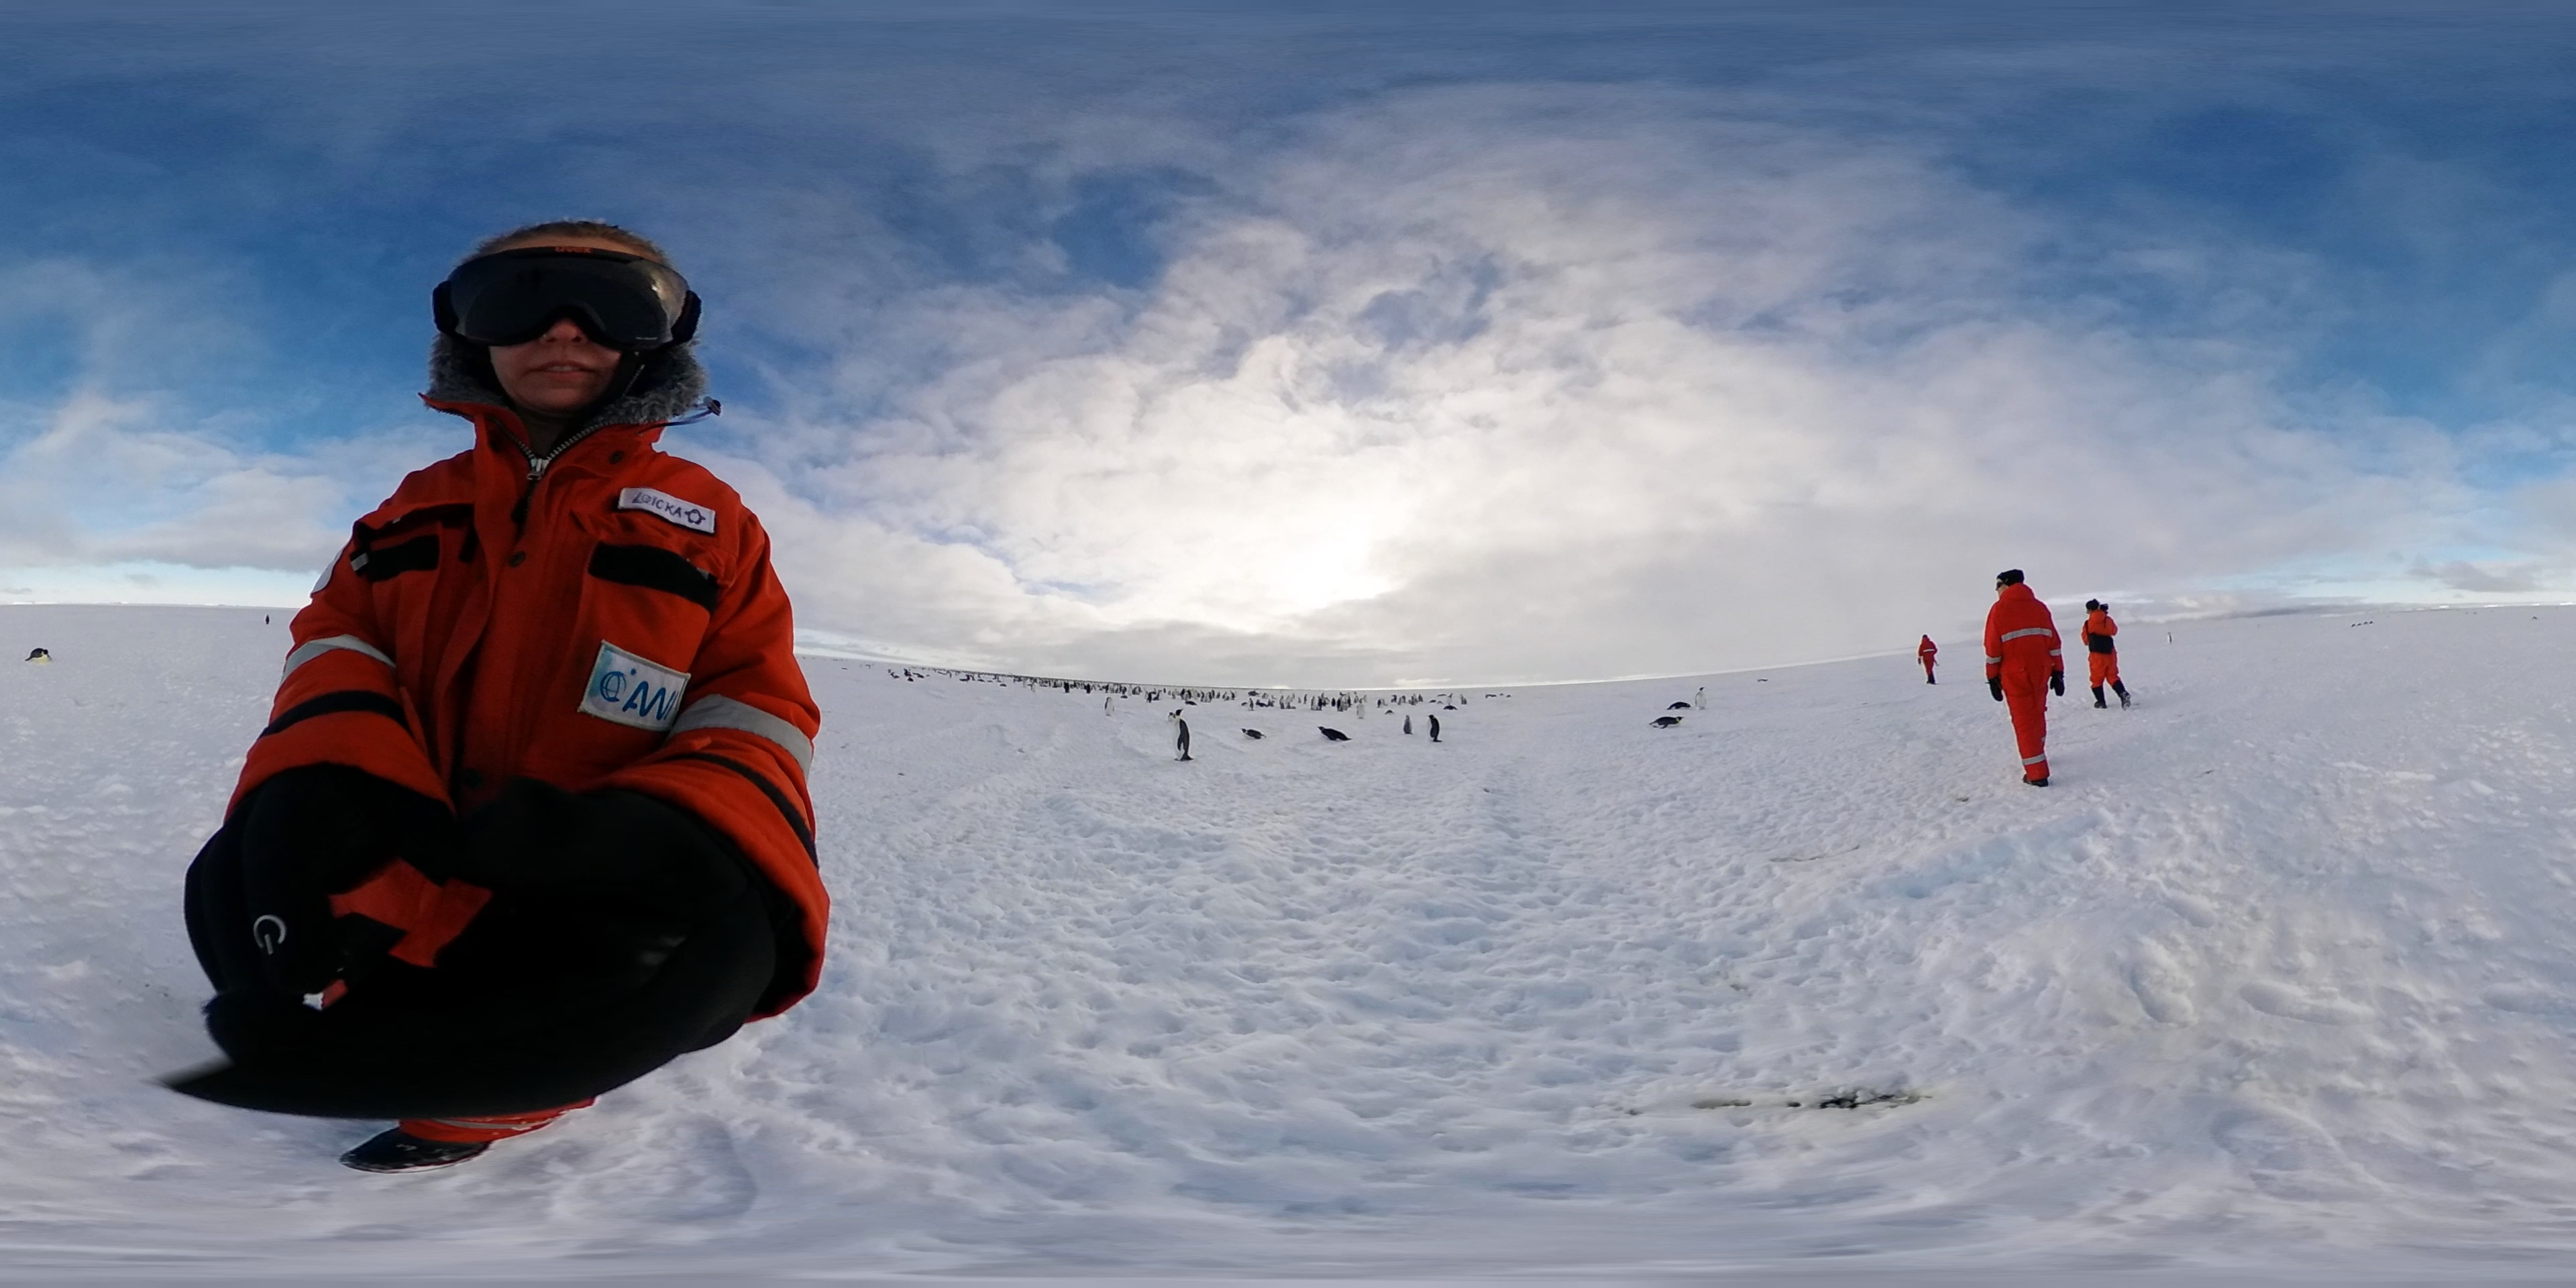adult_standing_penguin: (1171, 706, 1196, 766), (1428, 711, 1446, 744), (1690, 687, 1705, 710), (1102, 695, 1115, 718), (263, 609, 271, 629)
adult_toboggan_penguin: (21, 642, 59, 662), (1314, 723, 1352, 743), (1649, 713, 1684, 731), (1237, 724, 1267, 741), (1667, 701, 1694, 711)
juvenile_penguin: (1401, 713, 1413, 736)
researcher: (184, 194, 864, 1204), (1981, 567, 2070, 793), (2078, 596, 2137, 710), (1914, 634, 1943, 683)
